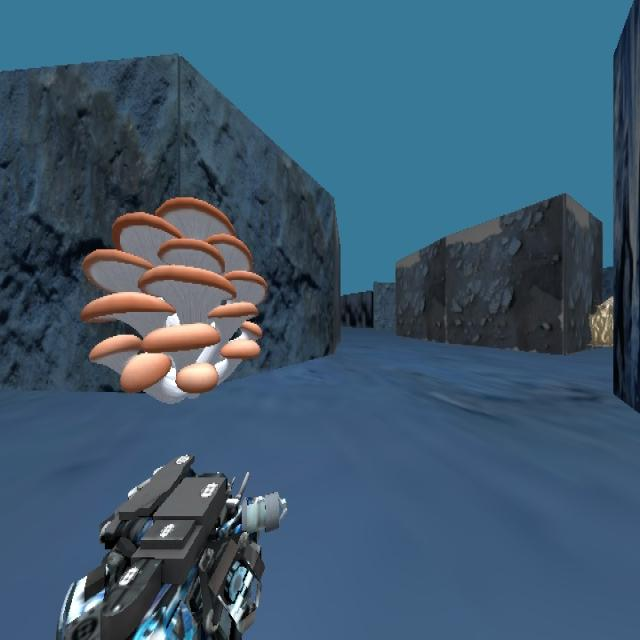Ice: (581, 285, 635, 347)
Mushroom: (80, 195, 268, 400)
